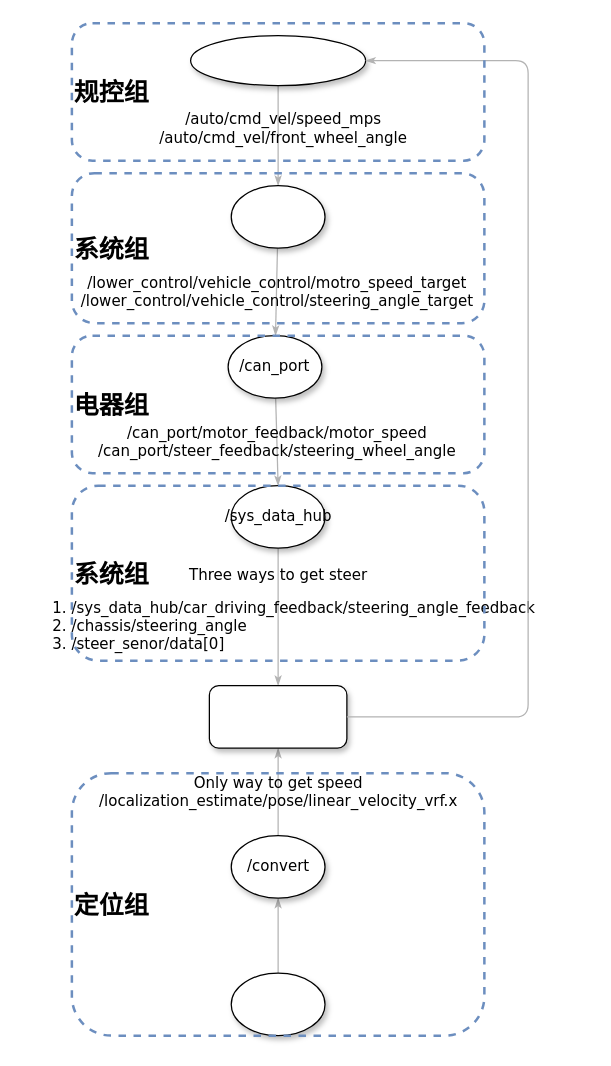
The diagram is 611 pixels wide and 1066 high, and some of its shapes have lost their labels. Here are the shapes that lost their labels. From the top down, the centre of each, then its label:
[278,61]: /udrive_control_node
[278,218]: /lower_control
[278,718]: steer speed
[278,1005]: /localization
